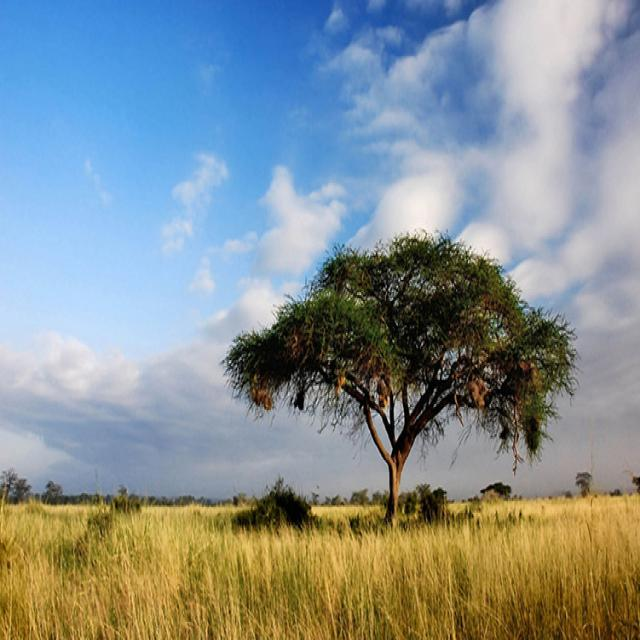Acacia: (226, 219, 572, 505)
